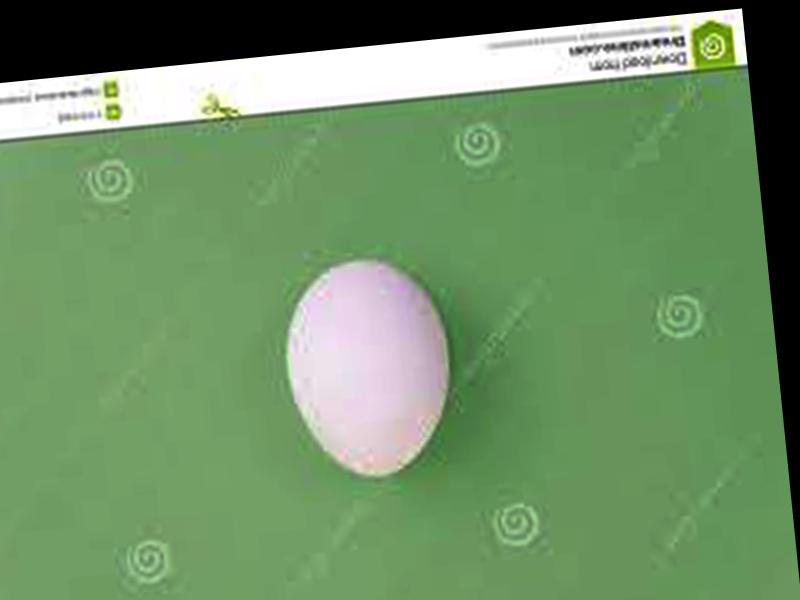Eggs: (280, 253, 461, 481)
